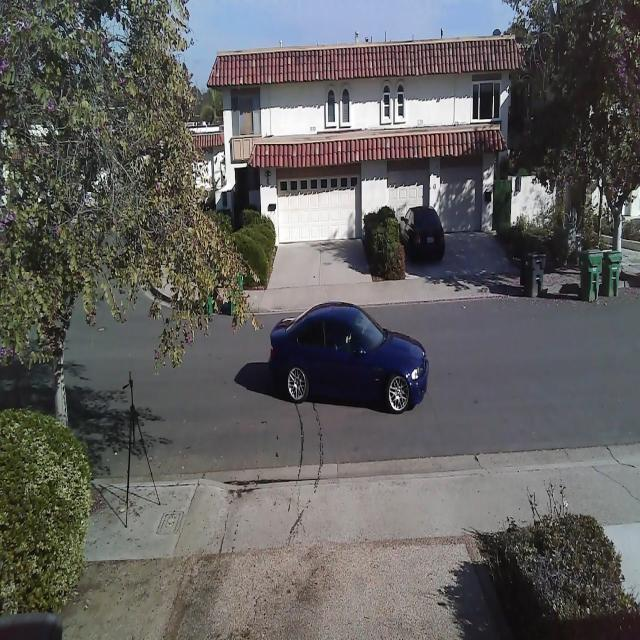Carbeetle: (262, 290, 433, 428)
Civilian: (399, 205, 446, 264)
